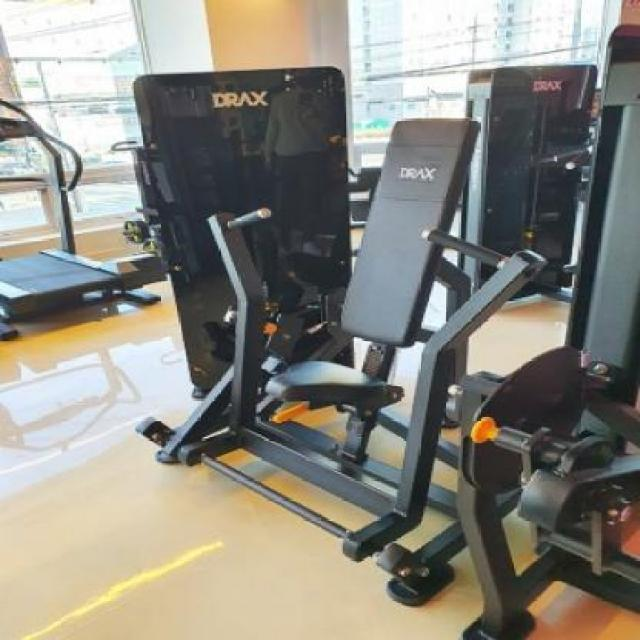seated dip machine: (122, 64, 546, 607)
